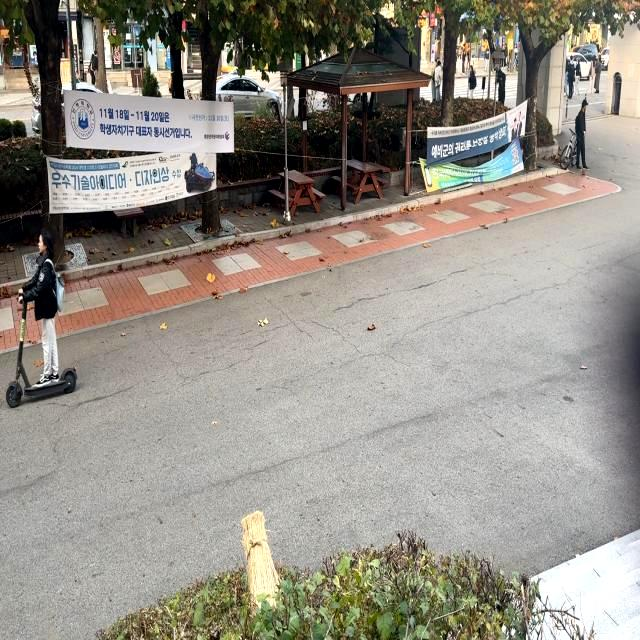bare_head: (30, 228, 59, 256)
human: (21, 224, 64, 376)
kickboard: (4, 378, 109, 403)
